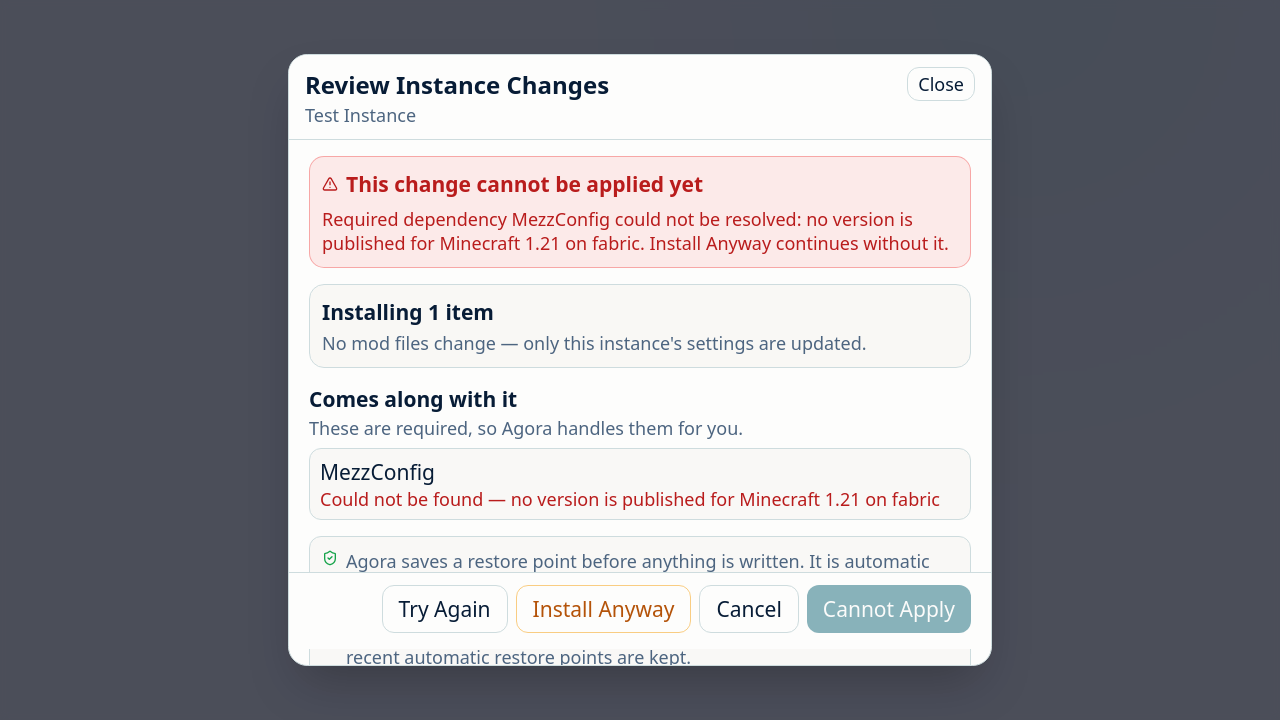
install review: a required dependency that cannot be resolved › replans with the override when Install Anyway is pressed
The image size is (1280, 720).
Click the button "Install Anyway" at (604, 609), box [516,585,692,633]
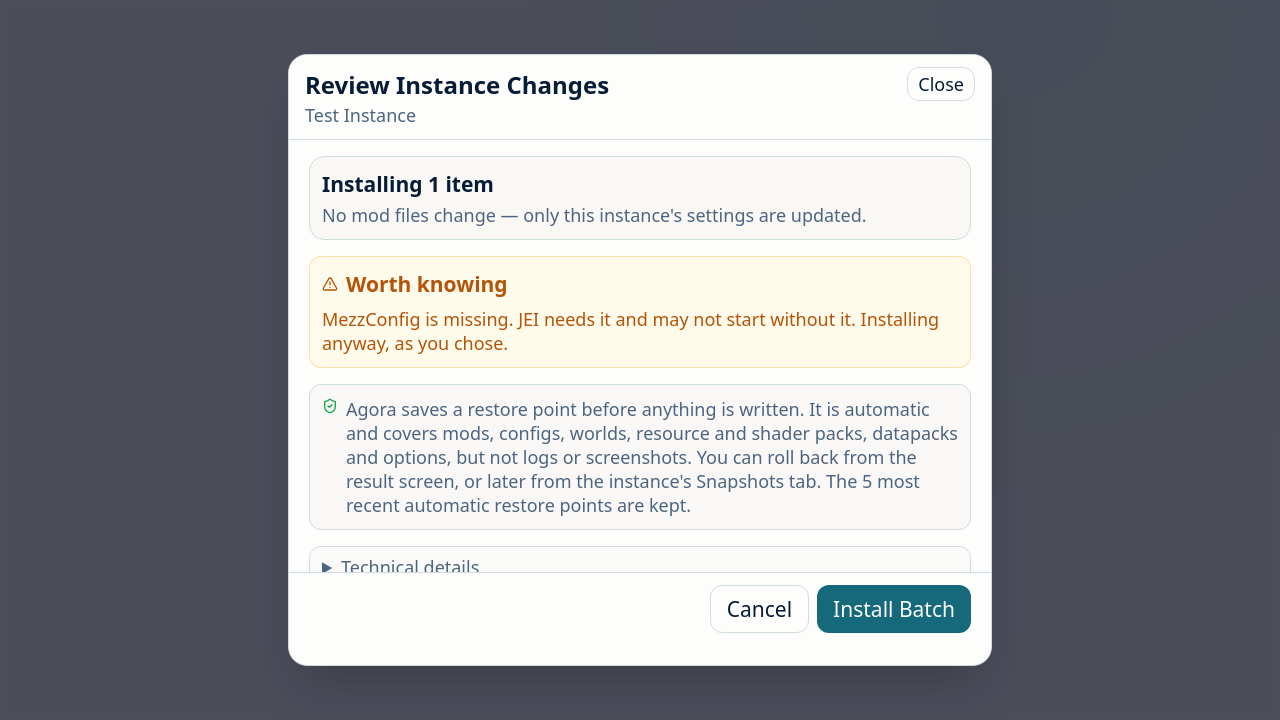
Result: the list item "MezzConfig is missing" is shown at [322,307,939,355]
